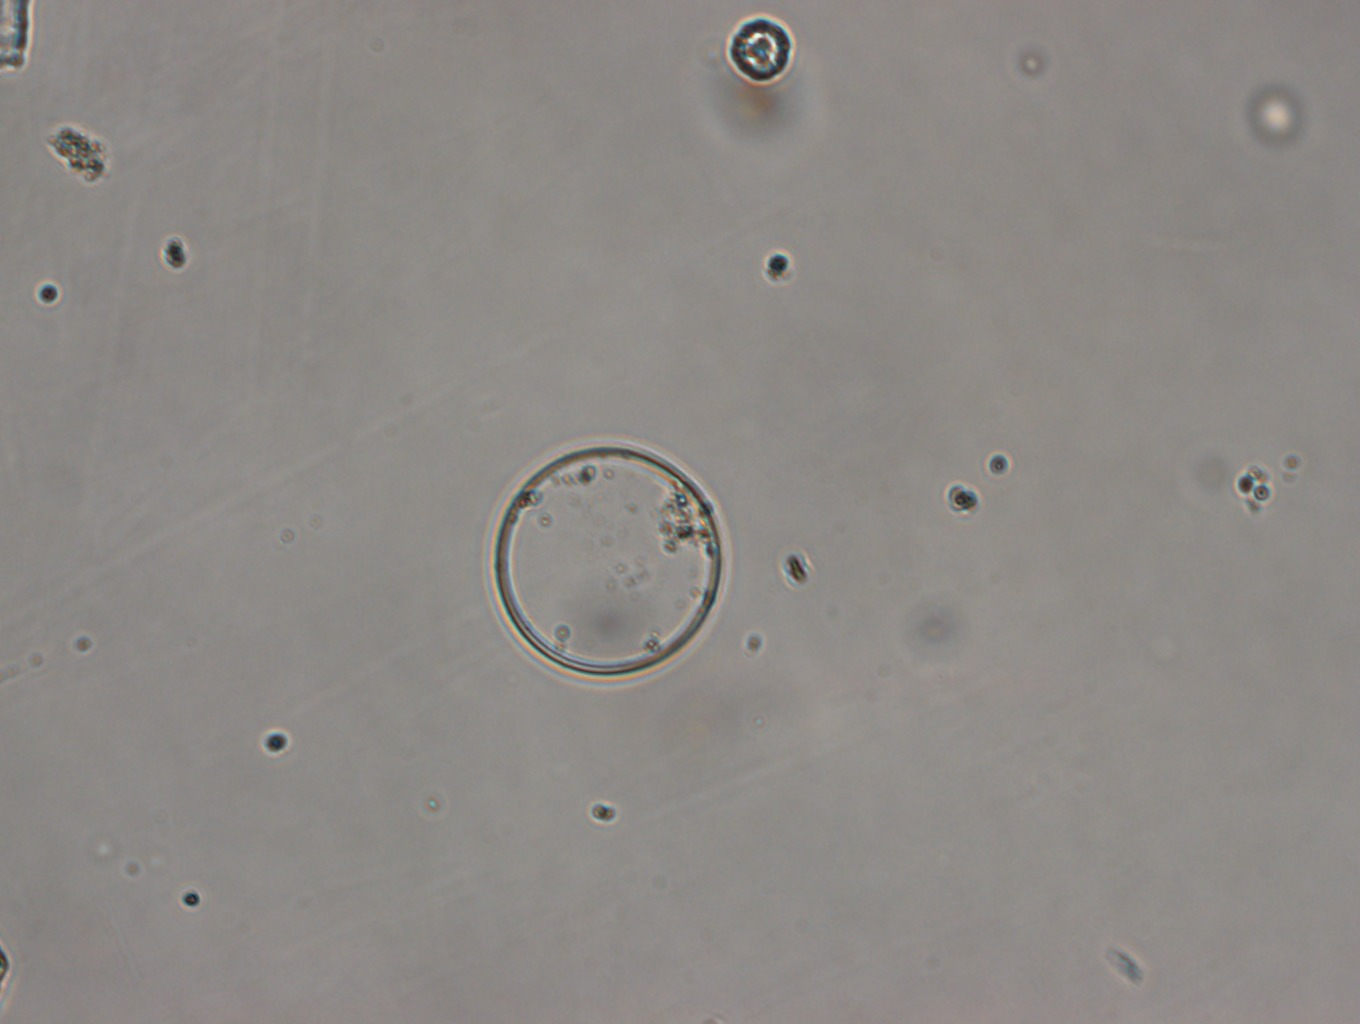coscinodiscus: (486, 443, 731, 692)
